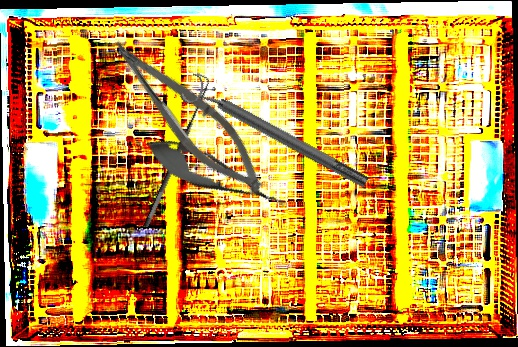Fixation Ring: (178, 70, 374, 199)
Hook Surgical: (131, 72, 217, 229)
Micro Scissor: (93, 29, 281, 206), (138, 127, 293, 222)
